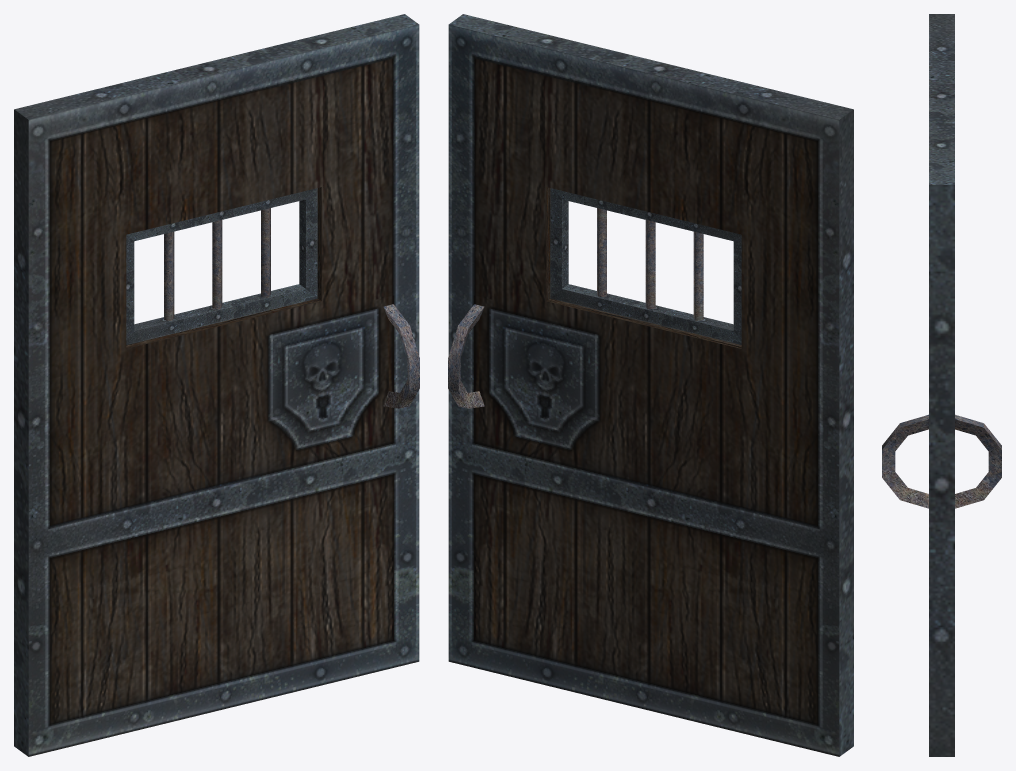
The model's file is ArchTunnel_wall_door.FBX.
The picture shows the model from 3 angles, left to right: view 1: azimuth 30°, elevation 25°; view 2: azimuth 150°, elevation 25°; view 3: azimuth 270°, elevation 25°; orthographic projection. The views are drawn at different scales.
Parts seen in each view (by area): view 1: ArchTunnel_wall_door; view 2: ArchTunnel_wall_door; view 3: ArchTunnel_wall_door.
Part boxes in pixels (bbox=[...]): ArchTunnel_wall_door: bbox=[14, 14, 419, 756]; ArchTunnel_wall_door: bbox=[448, 14, 853, 756]; ArchTunnel_wall_door: bbox=[882, 14, 1001, 756].
Size of the model in its own units: 25.42 by 39.61 by 7.53.
